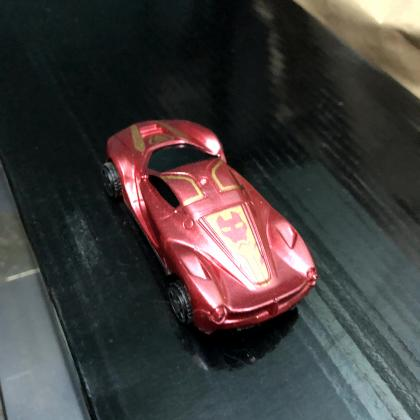Car: (106, 121, 318, 336)
